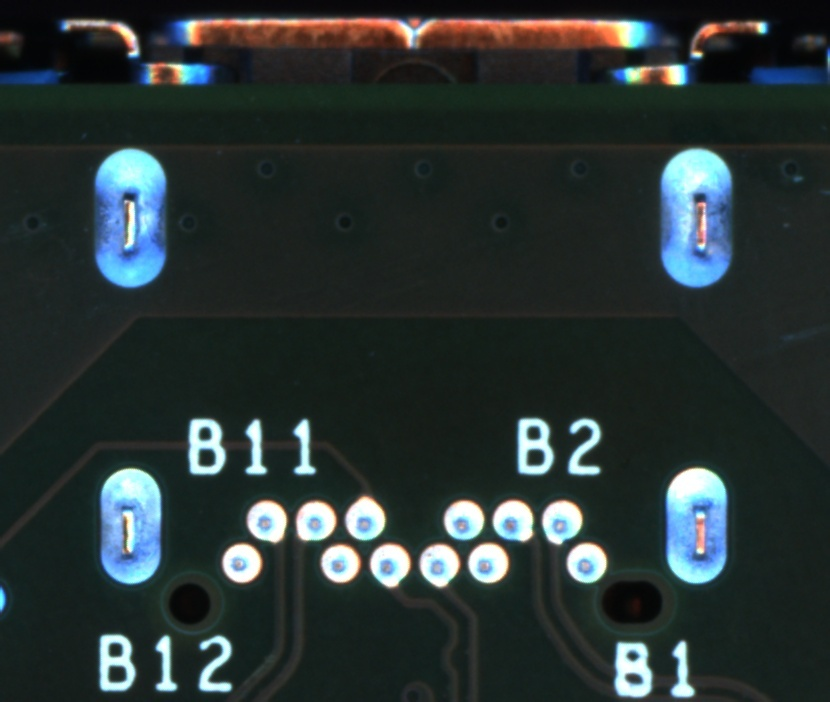SOLDER: (414, 540, 463, 590), (562, 537, 611, 587), (242, 495, 290, 546), (316, 539, 364, 590), (366, 540, 414, 591), (489, 494, 537, 545), (439, 494, 487, 545), (290, 494, 338, 545), (217, 539, 265, 589), (464, 539, 512, 589), (537, 497, 585, 547), (340, 493, 388, 543)
SOLDER2: (82, 445, 177, 603), (648, 449, 742, 607), (647, 140, 741, 298), (85, 139, 179, 297)
